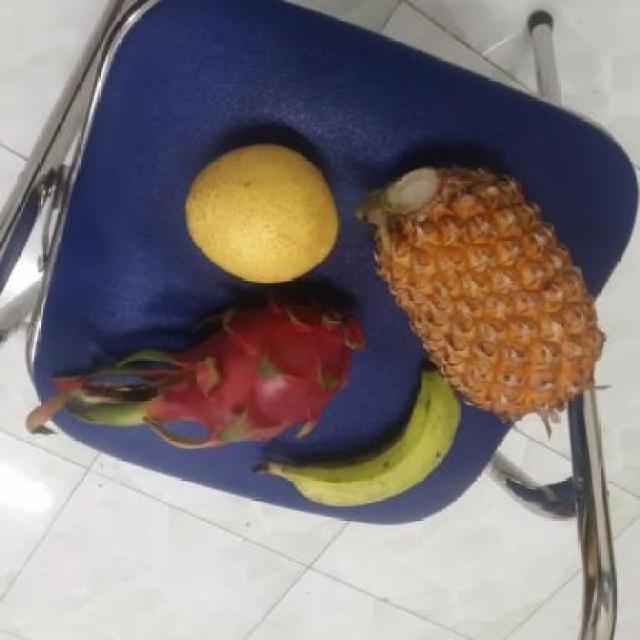banana: (278, 362, 464, 509)
dragon fruit: (146, 286, 377, 448)
pear: (184, 137, 344, 278)
pineapple: (364, 162, 608, 418)
